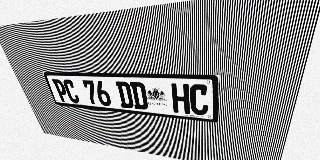6: (93, 80, 112, 106)
7: (81, 80, 100, 105)
C: (189, 84, 209, 116), (62, 79, 81, 103)
D: (129, 82, 149, 110), (115, 81, 134, 109)
H: (171, 83, 190, 114)
P: (52, 79, 70, 102)
